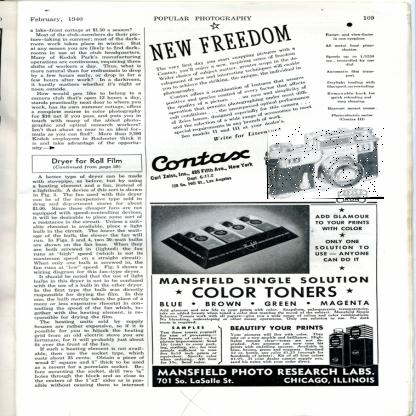Camera: (268, 128, 386, 201)
